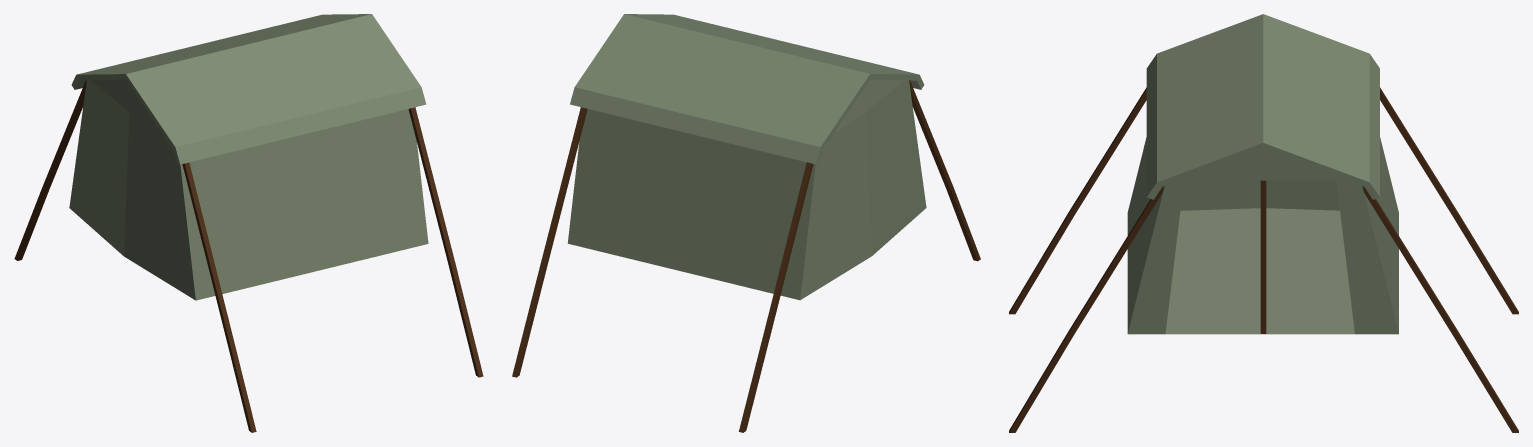
Rendered from BigTent1.fbx.
3 views of the same model, side by side, from view 1: azimuth 30°, elevation 25°; view 2: azimuth 150°, elevation 25°; view 3: azimuth 270°, elevation 25° (orthographic). The views are drawn at different scales.
Visible parts, largest first — view 1: Tent, Rain Cover, TentPole.001; view 2: Tent, Rain Cover, TentPole.001; view 3: Tent, Rain Cover, TentPole.001, TentPole.
Boxes of the visible parts, x1,y1,x2,y2 form: Tent: (69, 79, 428, 300); Rain Cover: (71, 14, 426, 164); TentPole.001: (14, 80, 483, 432); Tent: (567, 79, 926, 300); Rain Cover: (570, 14, 924, 164); TentPole.001: (512, 80, 980, 432); Tent: (1127, 137, 1398, 334); Rain Cover: (1146, 14, 1379, 199); TentPole.001: (1009, 87, 1518, 432); TentPole: (1260, 180, 1266, 333).
Bounding box in the file's own units: 363 × 383 × 602.
1 material, 1 textured.
